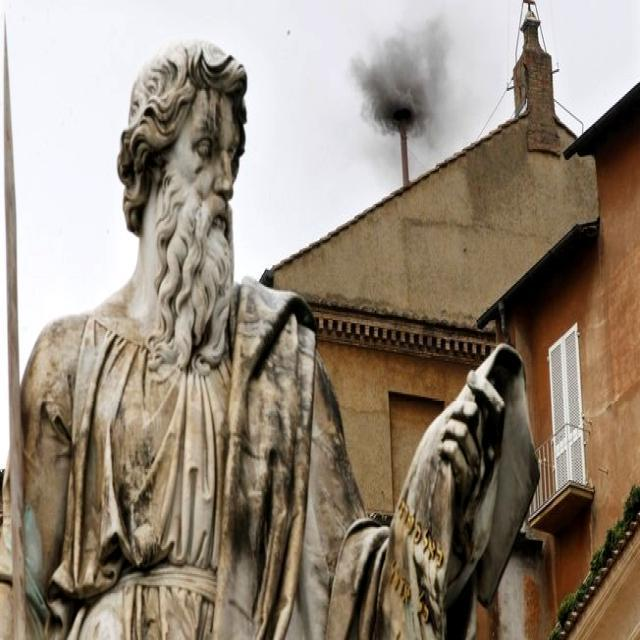Smoke: (341, 0, 482, 125)
